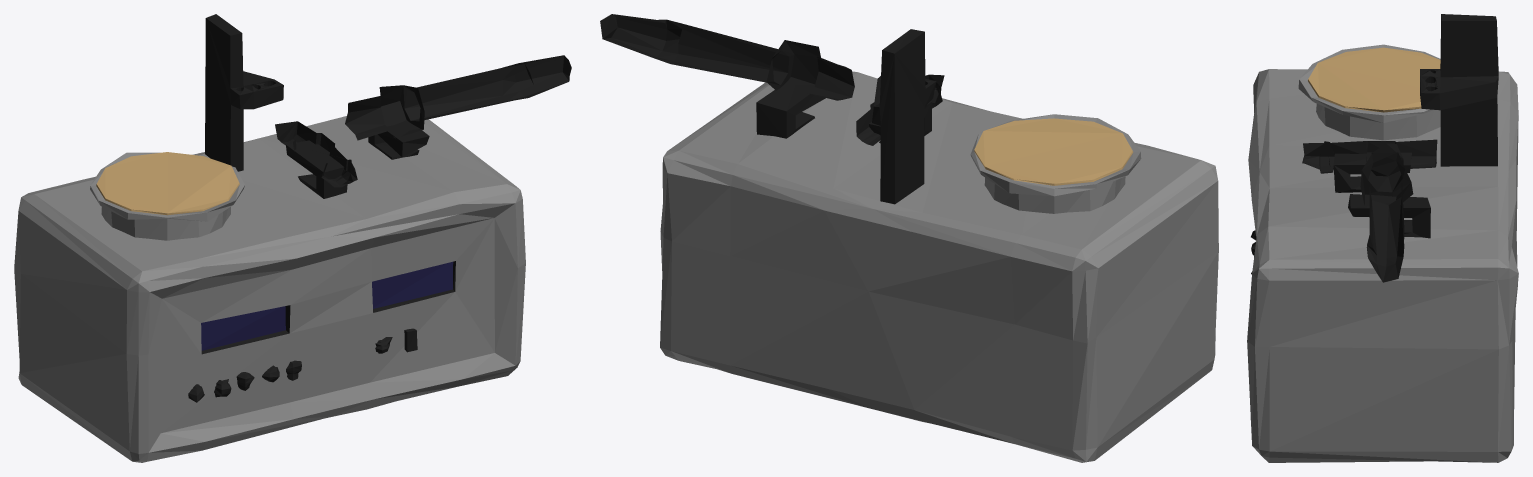
The model's file is clarus.glb.
3 views of the same model, side by side, from view 1: azimuth 30°, elevation 25°; view 2: azimuth 150°, elevation 25°; view 3: azimuth 270°, elevation 25° (orthographic). The views are drawn at different scales.
Parts seen in each view (by area): view 1: clarus; view 2: clarus; view 3: clarus.
Part boxes in pixels (x1=…): clarus: x1=14, y1=14, x2=571, y2=462; clarus: x1=600, y1=14, x2=1218, y2=462; clarus: x1=1247, y1=14, x2=1518, y2=462.
Size of the model in its own units: 28.05 by 17.7 by 12.5.
1 material, 1 textured.
